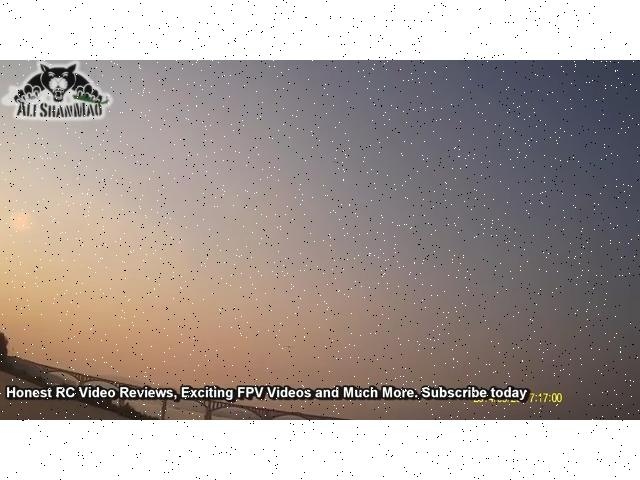Anti-Drone: (275, 340, 301, 352)
